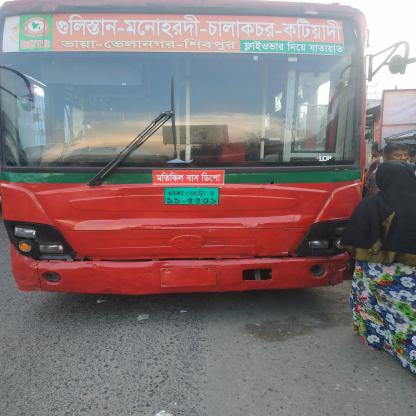license_plate: (160, 185, 226, 204)
